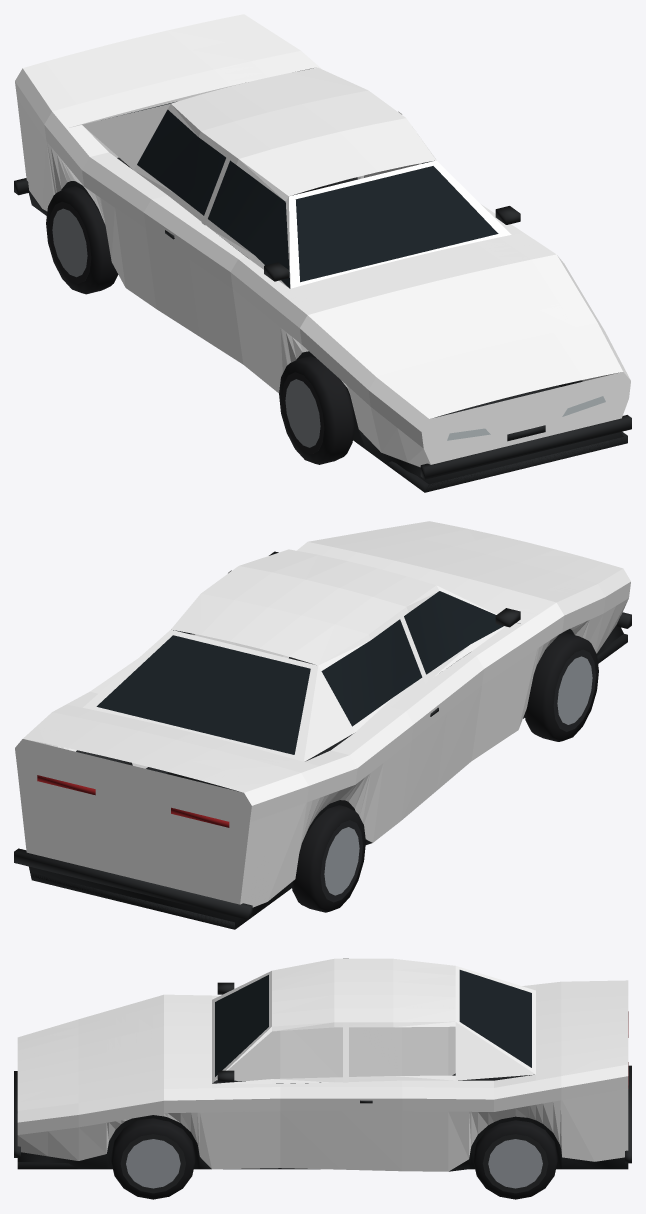
File: bancroft_miragem.glb
The picture shows the model from 3 angles, top to bottom: view 1: azimuth 30°, elevation 25°; view 2: azimuth 150°, elevation 25°; view 3: azimuth 270°, elevation 25°; orthographic projection. The views are drawn at different scales.
Visible parts, largest first — view 1: Body_Paint, Body_Details, Mount_FrontLeft_Wheel_Details, Mount_RearLeft_Wheel_Details; view 2: Body_Paint, Body_Details, Mount_FrontLeft_Wheel_Details, Mount_RearLeft_Wheel_Details; view 3: Body_Paint, Body_Details, Mount_FrontRight_Wheel_Details, Mount_RearRight_Wheel_Details.
Part boxes in pixels (x1,y1,x2,y2): Body_Paint: (15,14,630,467); Body_Details: (14,101,631,492); Mount_FrontLeft_Wheel_Details: (279,356,354,464); Mount_RearLeft_Wheel_Details: (46,186,118,294); Body_Paint: (15,521,630,907); Body_Details: (14,551,631,929); Mount_FrontLeft_Wheel_Details: (524,632,598,741); Mount_RearLeft_Wheel_Details: (291,805,365,912); Body_Paint: (17,958,628,1171); Body_Details: (14,970,631,1171); Mount_FrontRight_Wheel_Details: (111,1118,195,1199); Mount_RearRight_Wheel_Details: (473,1120,557,1199).
Bounding box in the file's own units: 1.94 × 1.4 × 4.84.
2 materials, 1 textured.
